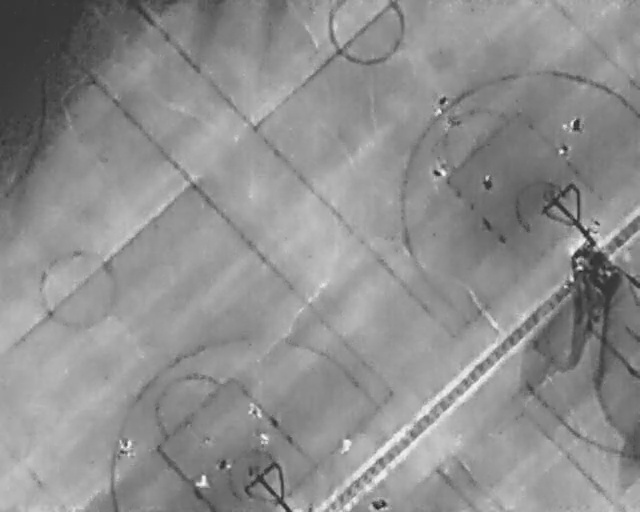Person: (242, 397, 268, 424), (336, 434, 354, 457), (116, 436, 132, 456), (435, 92, 452, 110), (215, 456, 232, 472), (557, 142, 572, 160), (567, 116, 582, 133), (193, 474, 210, 489), (590, 216, 602, 237), (368, 497, 387, 510), (432, 163, 447, 179), (482, 173, 493, 192), (257, 432, 270, 447)
